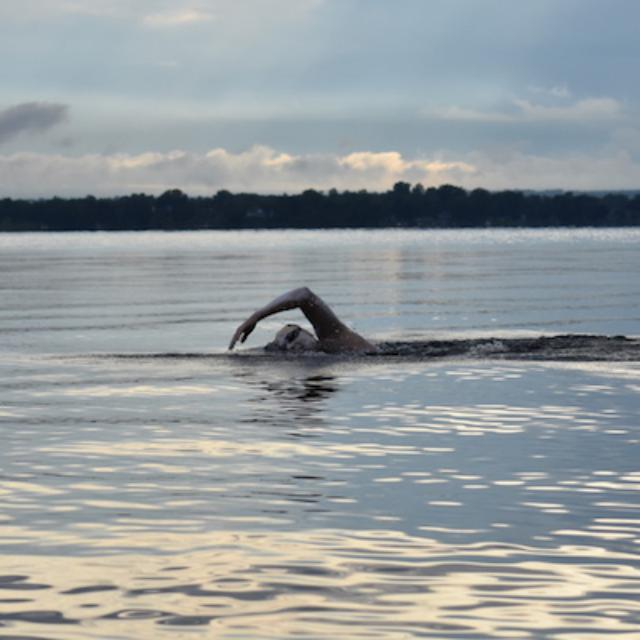human: (226, 282, 381, 360)
